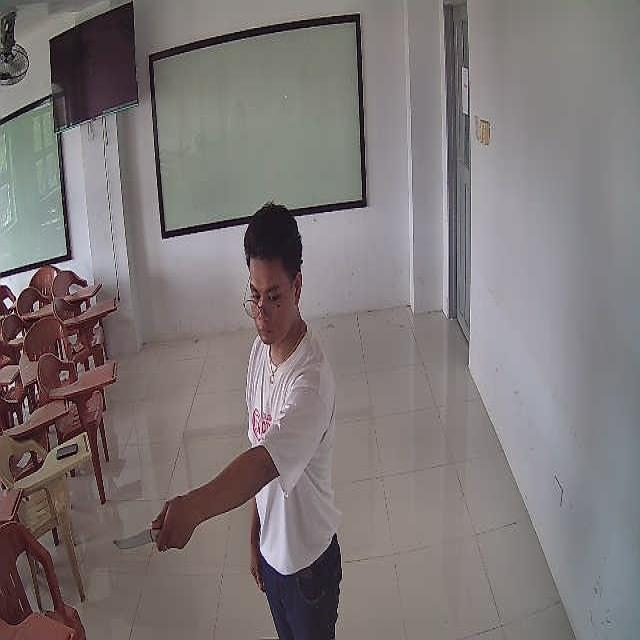knife: (112, 528, 161, 549)
